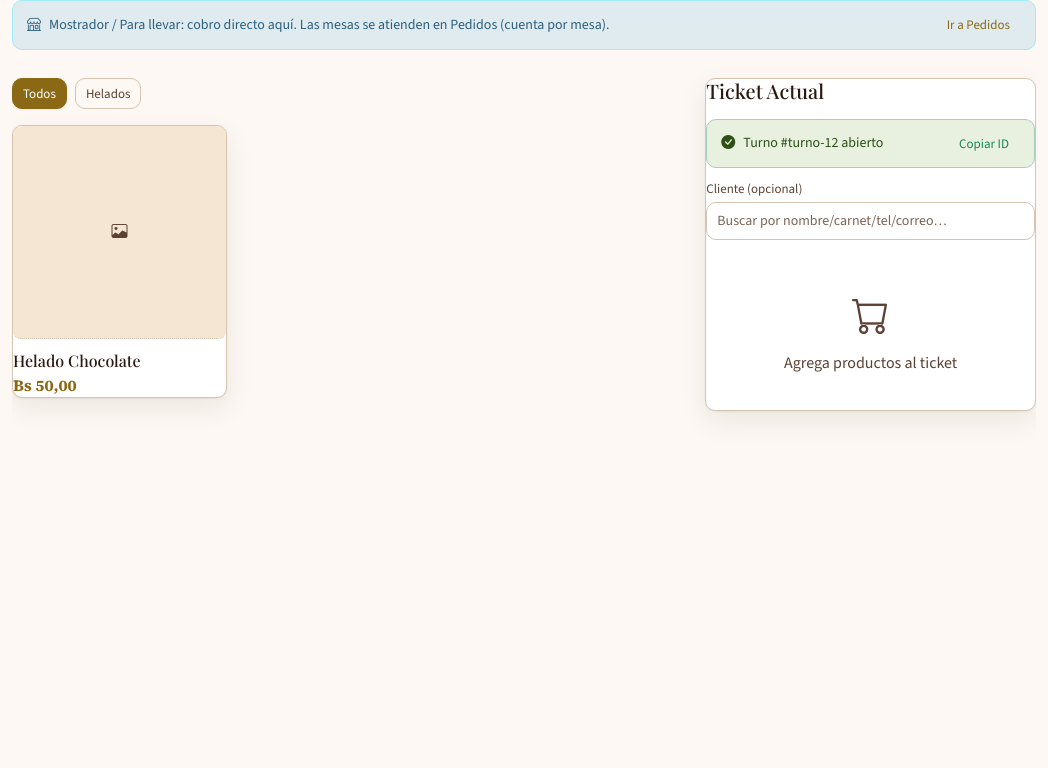
Test: VentasPage › al cobrar envía comanda a cocina por defecto
The image size is (1048, 768).
Click the heading "Helado Chocolate". click: point(77, 361)
box: [13, 350, 141, 371]
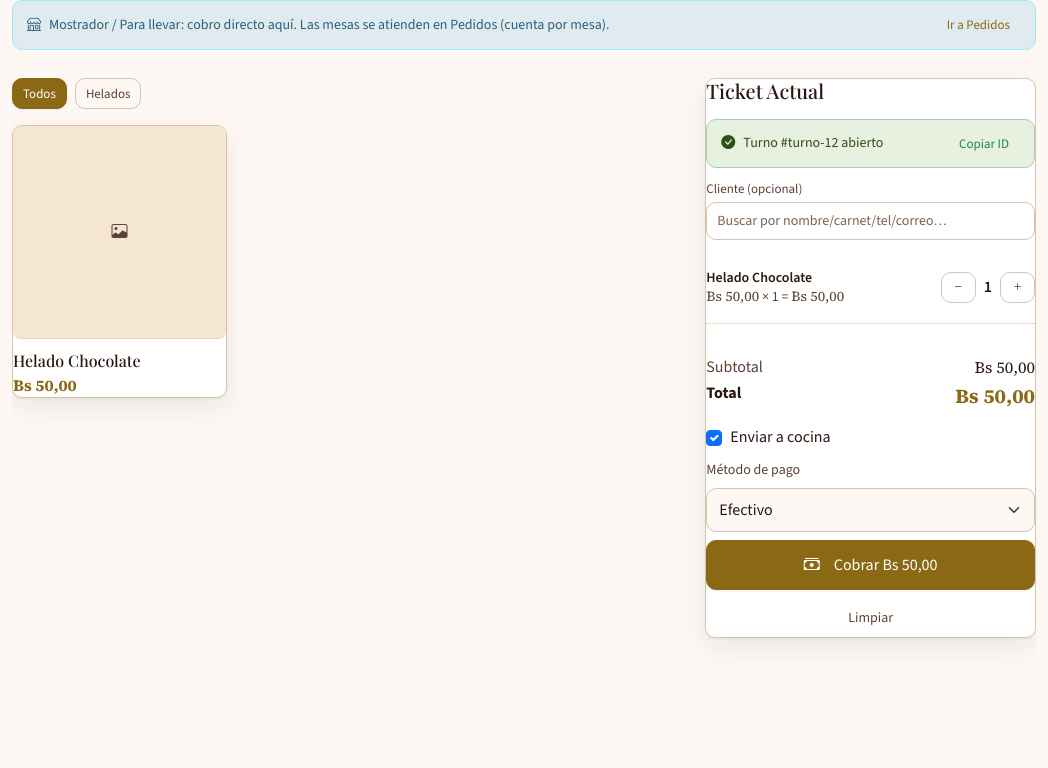
Expected: the checkbox labelled "Enviar a cocina" is checked, [706, 430, 722, 446]
Click the button "Cobrar Bs 50,00". click: point(871, 565)
box: [706, 540, 1035, 590]
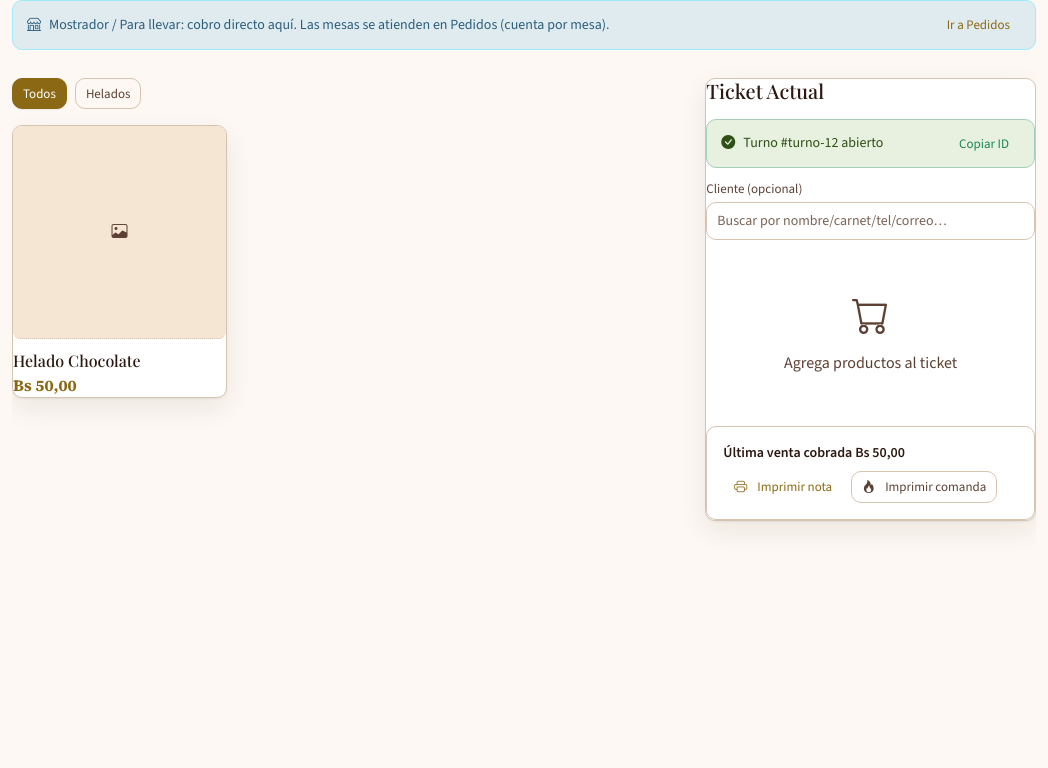
Expected: the button "Imprimir nota" is shown, [723, 471, 843, 503]
